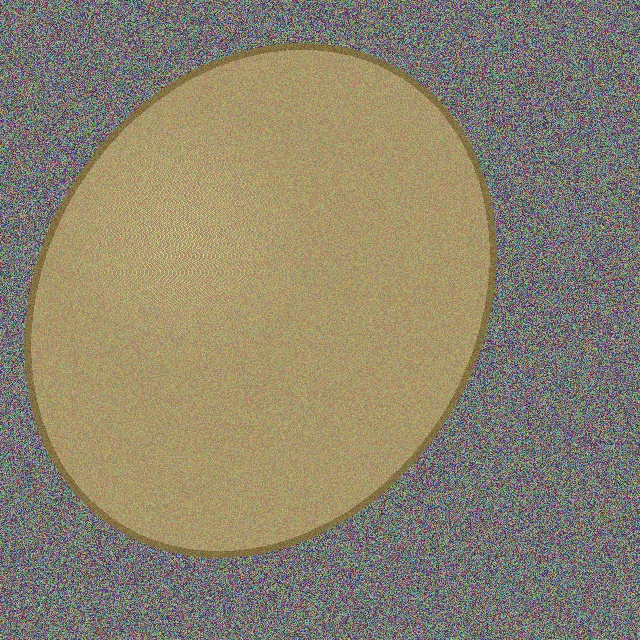lens: (29, 46, 491, 554)
